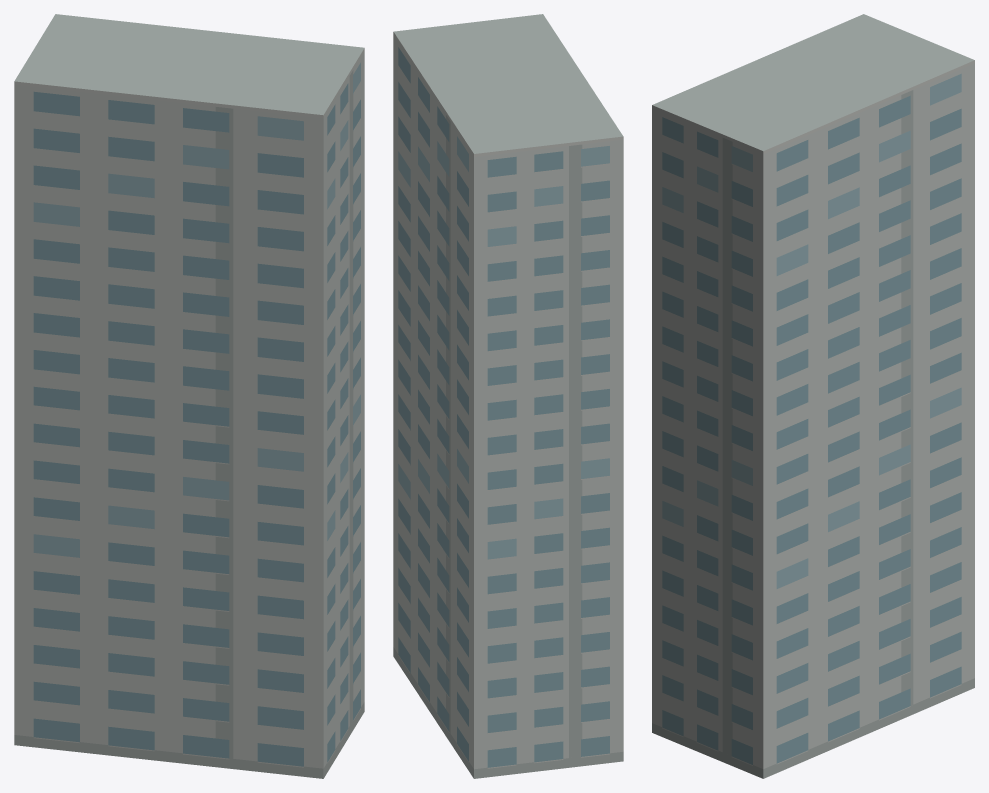
Rendered from residential-a6277ce3-7b0c-4e41-993d-e68315047b52.glb.
The picture shows the model from 3 angles, left to right: view 1: azimuth 30°, elevation 25°; view 2: azimuth 150°, elevation 25°; view 3: azimuth 270°, elevation 25°; orthographic projection. The views are drawn at different scales.
Parts seen in each view (by area): view 1: residential-a6277ce3-7b0c-4e41-993d-e68315047b52.tmp; view 2: residential-a6277ce3-7b0c-4e41-993d-e68315047b52.tmp; view 3: residential-a6277ce3-7b0c-4e41-993d-e68315047b52.tmp.
Boxes of the visible parts, <box> form: residential-a6277ce3-7b0c-4e41-993d-e68315047b52.tmp: <box>14,14,364,778</box>; residential-a6277ce3-7b0c-4e41-993d-e68315047b52.tmp: <box>393,14,623,778</box>; residential-a6277ce3-7b0c-4e41-993d-e68315047b52.tmp: <box>652,14,974,778</box>.
Bounding box in the file's own units: 22.51 × 48 × 22.38.
